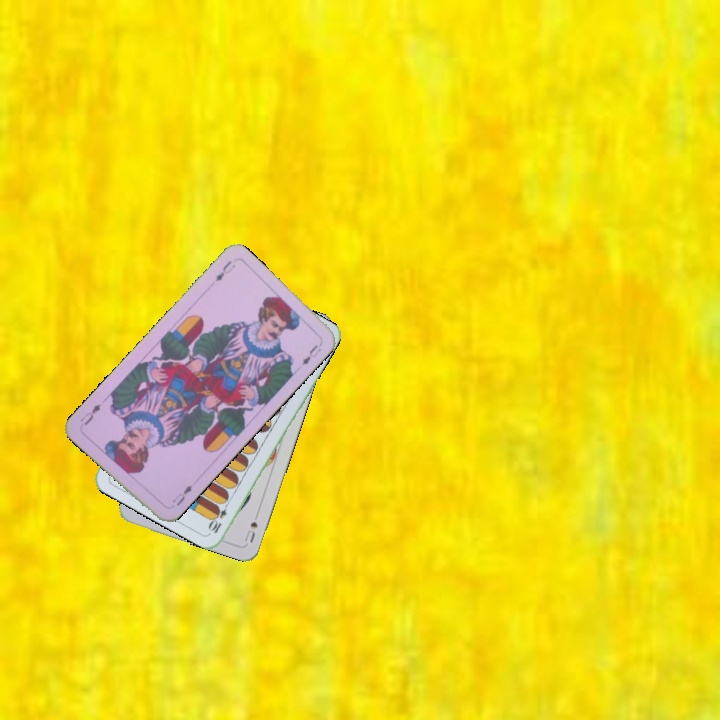E10: (206, 497, 232, 536)
EU: (168, 481, 195, 509), (211, 257, 238, 284)
SU: (240, 517, 260, 545)
